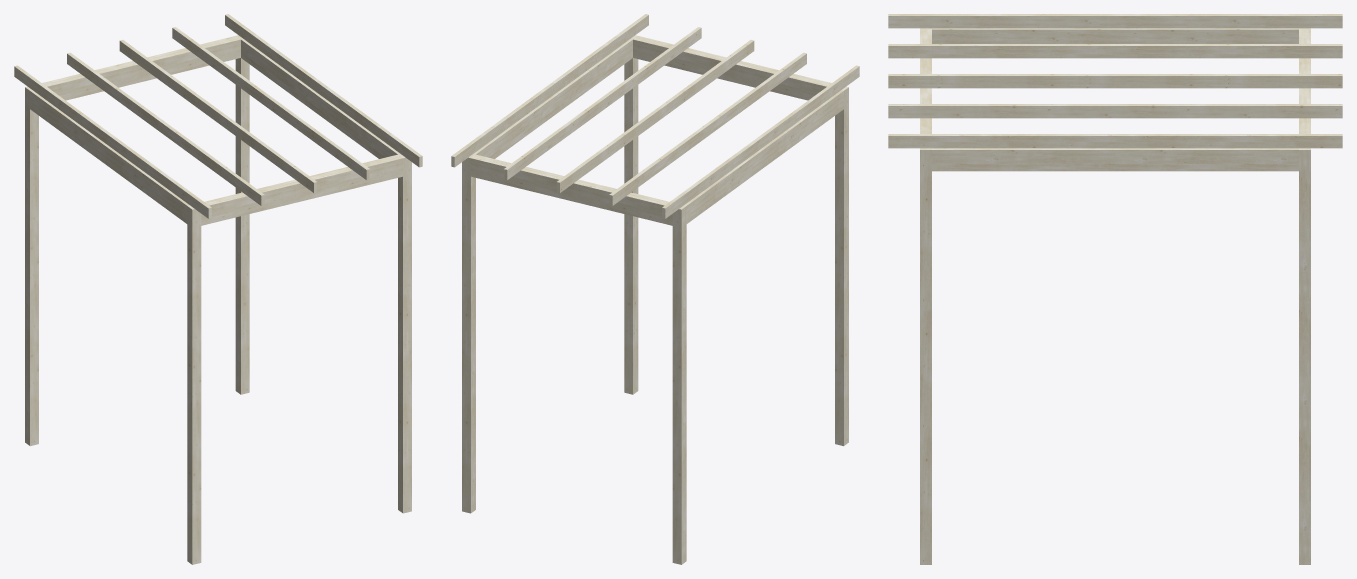
File: pp-dokuritu_1k-8s_whitepine.fbx
3 renders of one model, left to right at view 1: azimuth 30°, elevation 25°; view 2: azimuth 150°, elevation 25°; view 3: azimuth 270°, elevation 25°, orthographic. The views are drawn at different scales.
Visible parts, largest first — view 1: pp-dokuritu_1k-8s_whitepine; view 2: pp-dokuritu_1k-8s_whitepine; view 3: pp-dokuritu_1k-8s_whitepine.
Boxes of the visible parts, <box> form: pp-dokuritu_1k-8s_whitepine: <box>14,14,422,564</box>; pp-dokuritu_1k-8s_whitepine: <box>451,14,859,564</box>; pp-dokuritu_1k-8s_whitepine: <box>888,14,1342,564</box>.
Bounding box in the file's own units: 187 × 298 × 287.
1 material, 1 textured.
